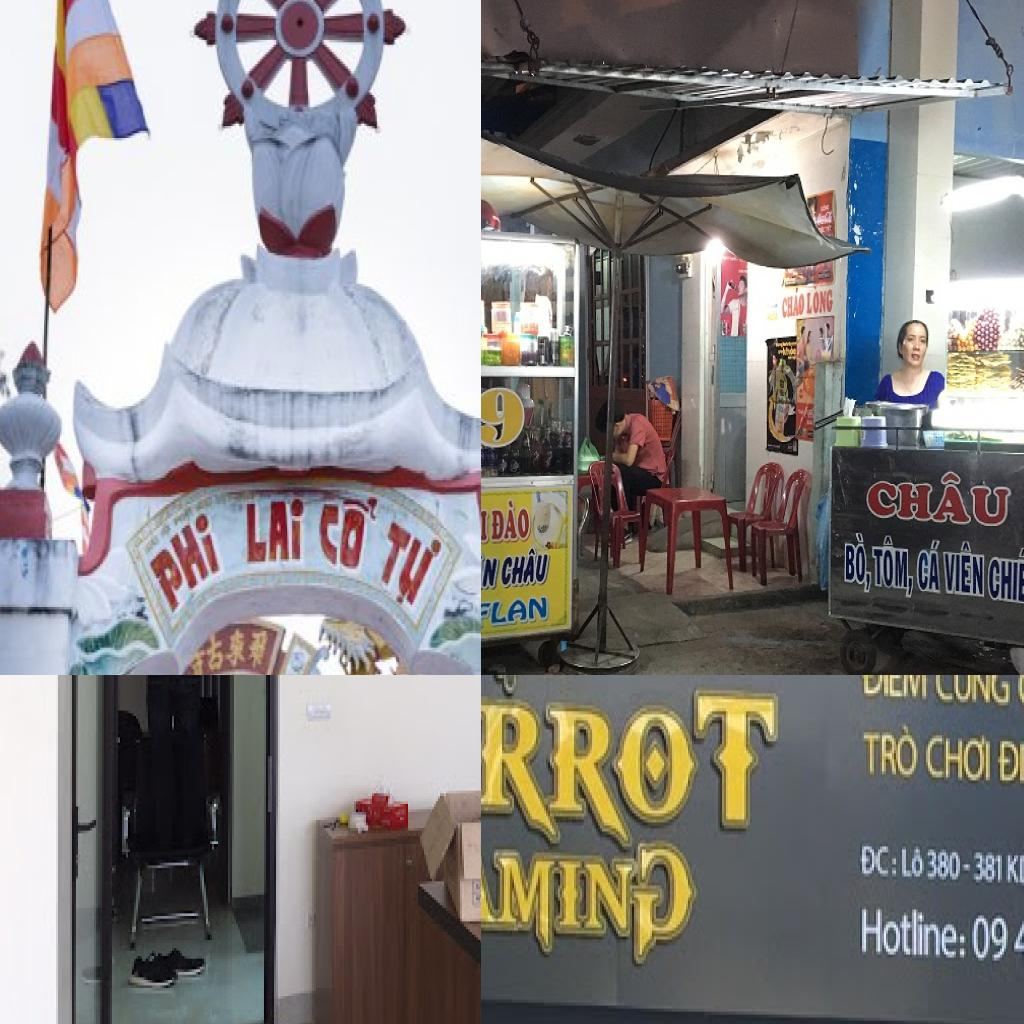text: (481, 675, 786, 843), (481, 816, 636, 954), (867, 468, 1015, 527), (148, 504, 222, 619), (374, 509, 447, 619), (856, 898, 970, 960), (316, 492, 385, 574), (246, 500, 308, 566), (924, 730, 996, 786), (862, 720, 922, 784), (872, 534, 919, 599), (481, 385, 526, 448), (932, 675, 1014, 708), (498, 546, 554, 591), (943, 541, 986, 598), (987, 544, 1024, 607), (858, 675, 932, 705), (481, 596, 549, 628), (488, 498, 533, 544), (972, 910, 1010, 964), (842, 533, 874, 595), (996, 732, 1024, 801), (858, 840, 902, 882), (916, 537, 944, 598), (926, 844, 964, 888), (972, 850, 1006, 892), (900, 844, 928, 882), (806, 284, 834, 316), (781, 284, 805, 320), (481, 550, 501, 593), (1004, 849, 1024, 891)
